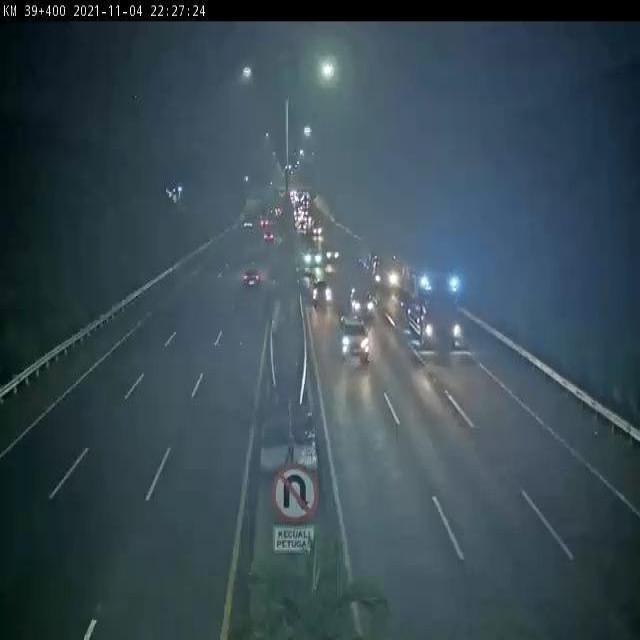car: (338, 312, 369, 363), (349, 285, 376, 319), (310, 277, 331, 303), (242, 267, 263, 289)
truck: (401, 265, 463, 352), (360, 251, 403, 296), (303, 246, 322, 266)
